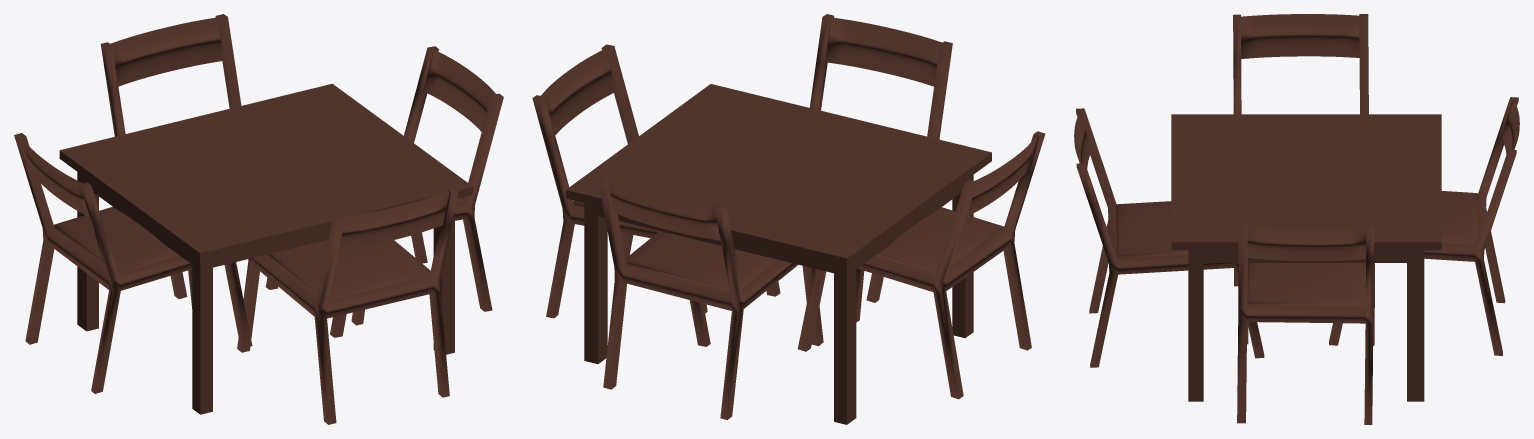
3 renders of one model, left to right at view 1: azimuth 30°, elevation 25°; view 2: azimuth 150°, elevation 25°; view 3: azimuth 270°, elevation 25°, orthographic. The views are drawn at different scales.
Parts seen in each view (by area): view 1: Cube.001, Cube.005, Cube.004, Cube.002, Cube.003; view 2: Cube.001, Cube.003, Cube.004, Cube.002, Cube.005; view 3: Cube.001, Cube.002, Cube.005, Cube.003, Cube.004.
Boxes of the visible parts, box(x1,y1,x2,y2) form: Cube.001: box(59, 83, 472, 414); Cube.005: box(237, 187, 458, 424); Cube.004: box(14, 133, 252, 393); Cube.002: box(265, 46, 503, 337); Cube.003: box(100, 14, 241, 308); Cube.001: box(566, 84, 991, 424); Cube.003: box(597, 173, 823, 419); Cube.004: box(797, 131, 1045, 399); Cube.002: box(532, 44, 780, 346); Cube.005: box(809, 14, 952, 322); Cube.001: box(1171, 114, 1441, 401); Cube.002: box(1237, 223, 1374, 424); Cube.005: box(1074, 108, 1264, 367); Cube.003: box(1329, 97, 1519, 355); Cube.004: box(1233, 14, 1368, 286).
Bounding box in the file's own units: 3.51 × 1.84 × 3.3.
